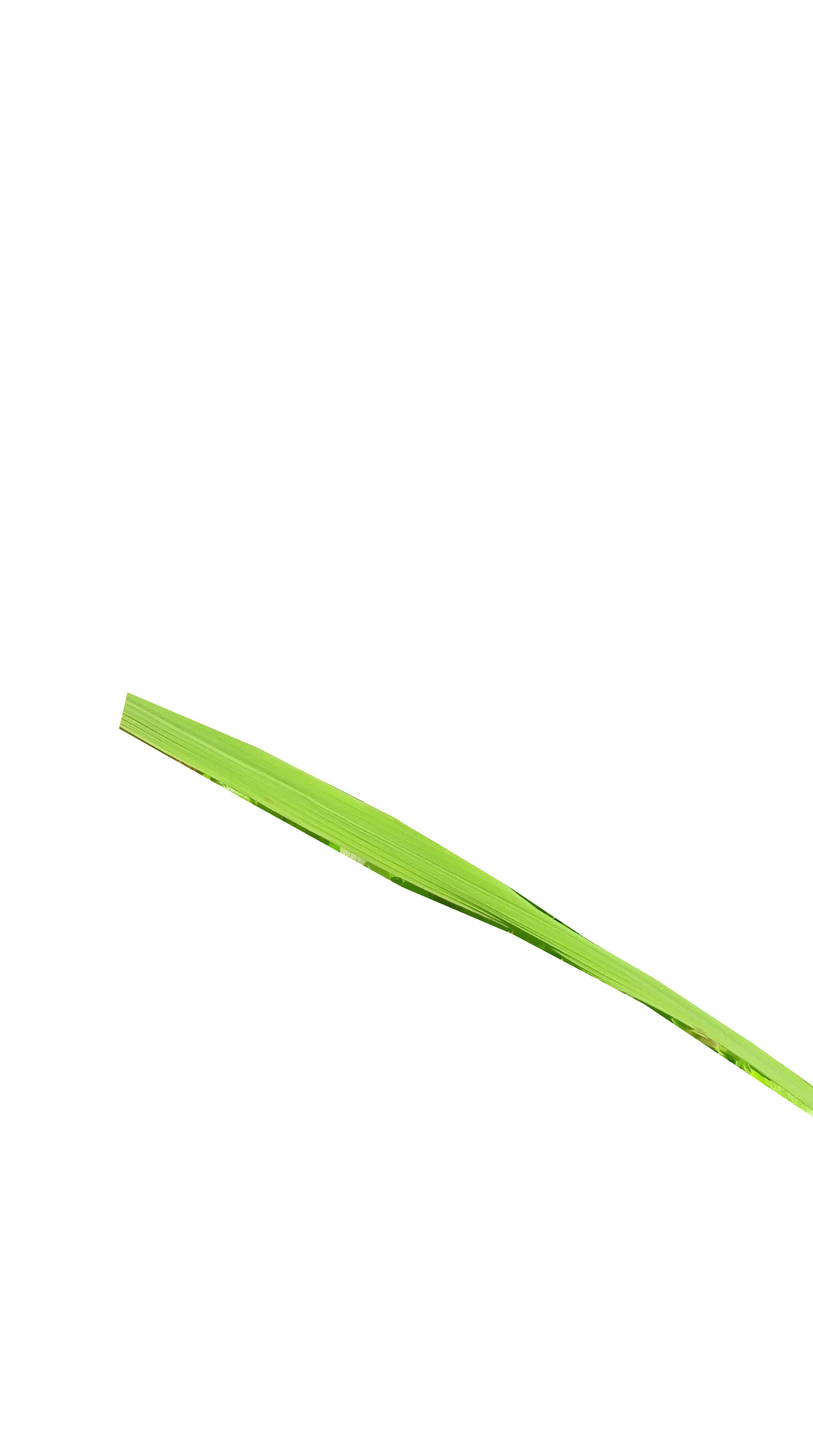Tungro: (116, 694, 813, 1126)
